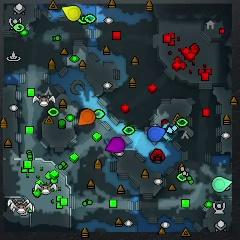p1: (148, 126, 166, 143)
p2: (212, 176, 232, 192)
p3: (105, 137, 126, 153)
p4: (61, 5, 81, 22)
p5: (78, 109, 95, 126)
x3: (162, 123, 177, 141)
